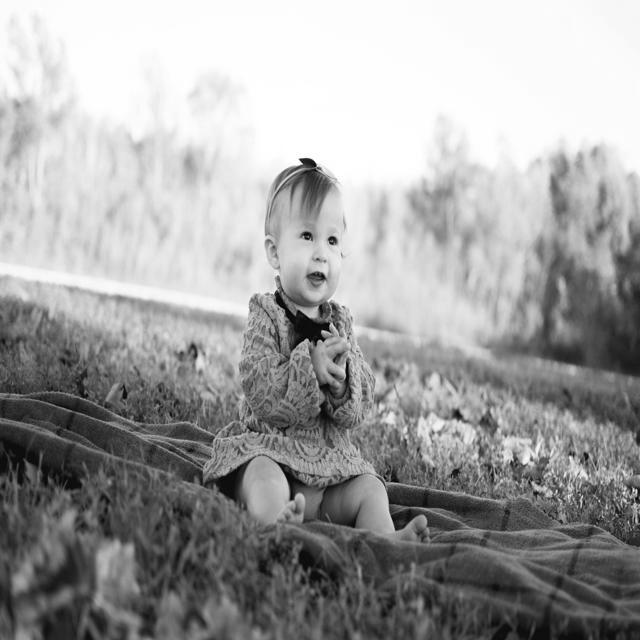Happiness: (267, 177, 350, 308)
